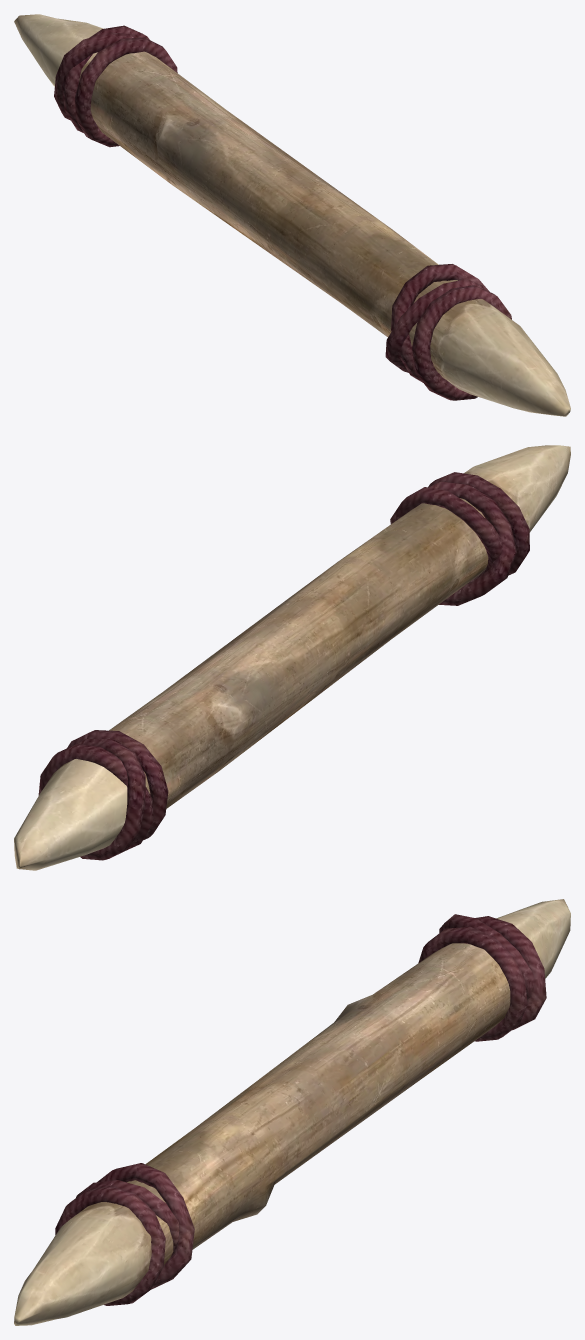
3 renders of one model, top to bottom at view 1: azimuth 30°, elevation 25°; view 2: azimuth 150°, elevation 25°; view 3: azimuth 330°, elevation 25°, orthographic. The views are drawn at different scales.
Visible parts, largest first — view 1: SM_Garou_Set_SM_LogRope_01_LOD0; view 2: SM_Garou_Set_SM_LogRope_01_LOD0; view 3: SM_Garou_Set_SM_LogRope_01_LOD0.
Boxes of the visible parts, box(x1,y1,x2,y2) form: SM_Garou_Set_SM_LogRope_01_LOD0: box(14, 14, 570, 416); SM_Garou_Set_SM_LogRope_01_LOD0: box(14, 445, 570, 870); SM_Garou_Set_SM_LogRope_01_LOD0: box(14, 899, 570, 1325).
Size of the model in its own units: 0.4845 by 0.4373 by 3.9.
1 material, 1 textured.
